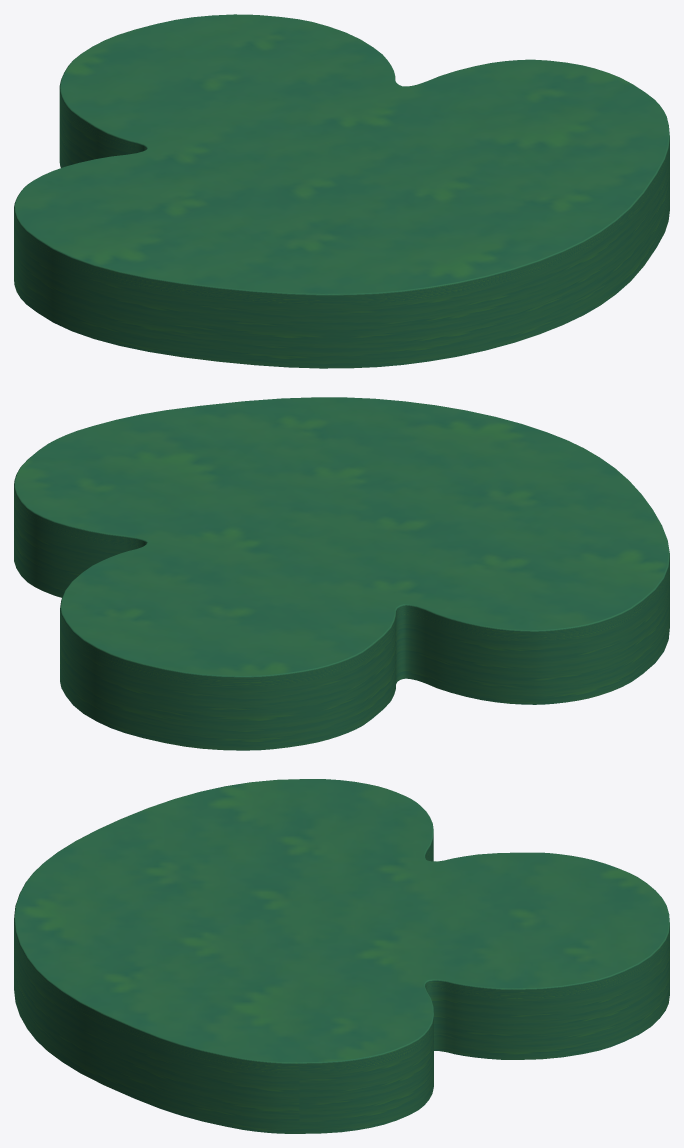
Rendered from mushroom-island.glb.
The picture shows the model from 3 angles, top to bottom: view 1: azimuth 30°, elevation 25°; view 2: azimuth 150°, elevation 25°; view 3: azimuth 270°, elevation 25°; orthographic projection. The views are drawn at different scales.
Visible parts, largest first — view 1: geometry_0; view 2: geometry_0; view 3: geometry_0.
Part boxes in pixels (left/top/right/bottom): geometry_0: left=14, top=14, right=669, bottom=368; geometry_0: left=14, top=397, right=669, bottom=750; geometry_0: left=14, top=779, right=669, bottom=1133.
Bounding box in the file's own units: 51.39 × 6 × 50.13.
Materials: 1 (1 with a texture image).
